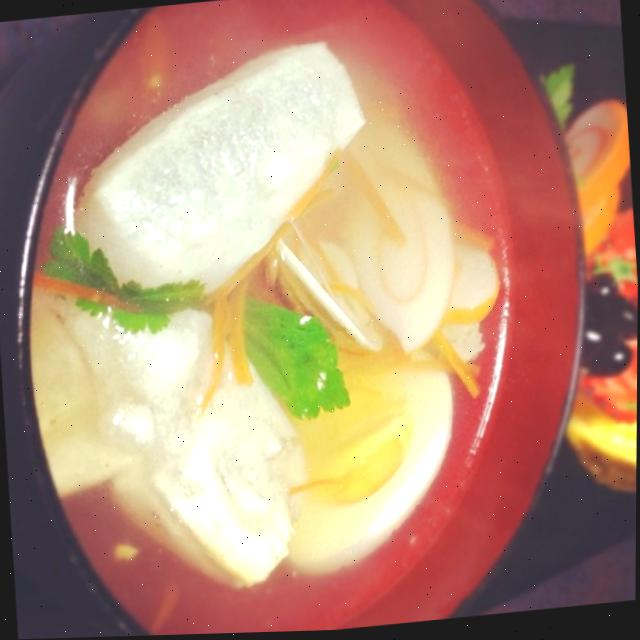汤锅炖物: (0, 0, 605, 639)
